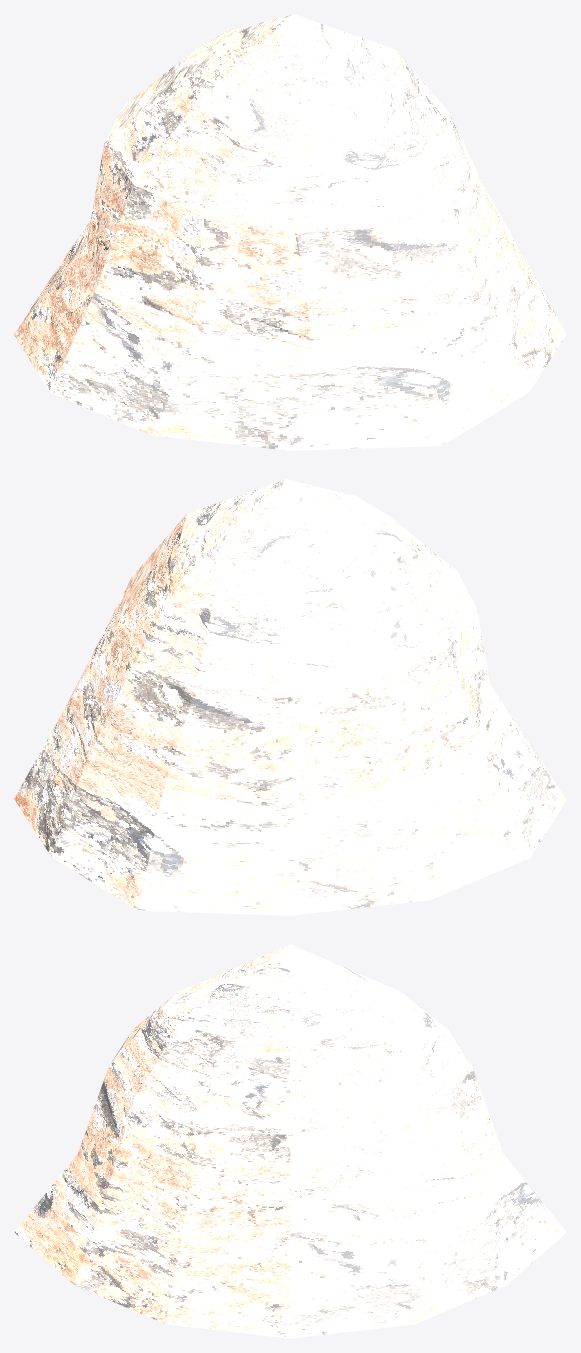
Rendered from mountain_b.glb.
3 views of the same model, one above another, from view 1: azimuth 30°, elevation 25°; view 2: azimuth 150°, elevation 25°; view 3: azimuth 270°, elevation 25° (orthographic). The views are drawn at different scales.
Parts seen in each view (by area): view 1: mountain_b; view 2: mountain_b; view 3: mountain_b.
Boxes of the visible parts, x1,y1,x2,y2 form: mountain_b: (14,14,566,450); mountain_b: (14,479,566,915); mountain_b: (14,944,566,1338).
Bounding box in the file's own units: 11.83 × 7.52 × 13.
